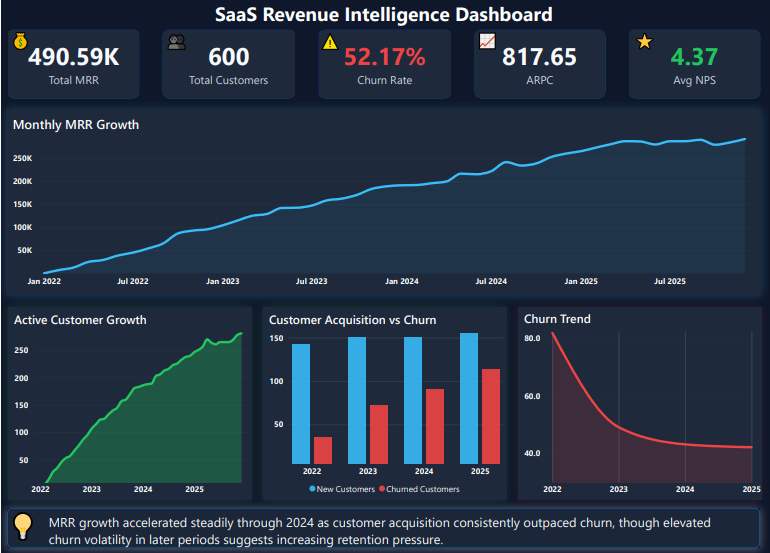

What the dashboard file says about the page in this screenshot:
{"tool":"powerbi","page":{"name":"Executive Overview","canvas":[1280,925],"ordinal":0},"visuals":[{"type":"textbox","box":[7.9,0,1259.2,49],"z":0},{"type":"cardVisual","fields":{"Data":["subscriptions.Total MRR"]},"box":[11.4,48.5,219.5,115.5],"z":1000},{"type":"cardVisual","fields":{"Data":["subscriptions.Total Customers"]},"box":[269.4,48.5,220.9,115.5],"z":2000},{"type":"cardVisual","fields":{"Data":["subscriptions.Avg NPS"]},"box":[1046.2,48.5,219.5,115.5],"z":3000},{"type":"cardVisual","fields":{"Data":["subscriptions.ARPC"]},"box":[788.2,48.5,219.5,115.5],"z":4000},{"type":"cardVisual","fields":{"Data":["subscriptions.Churn Rate"]},"box":[528.8,48.5,220.9,115.5],"z":5000},{"type":"textbox","box":[8.6,48.5,1257.2,65.6],"z":6000},{"type":"lineChart","title":"Monthly MRR Growth","fields":{"Category":["monthly_revenue.Month Date.Variation.Date Hierarchy.Year","monthly_revenue.Month Date.Variation.Date Hierarchy.Quarter","monthly_revenue.Month Date.Variation.Date Hierarchy.Month","monthly_revenue.Month Date.Variation.Date Hierarchy.Day"],"Y":["Sum(monthly_revenue.total_mrr)"]},"box":[9.5,181.7,1256,309.7],"z":7000},{"type":"areaChart","title":"Active Customer Growth","fields":{"Category":["monthly_revenue.Month Date.Variation.Date Hierarchy.Year","monthly_revenue.Month Date.Variation.Date Hierarchy.Quarter","monthly_revenue.Month Date.Variation.Date Hierarchy.Month","monthly_revenue.Month Date.Variation.Date Hierarchy.Day"],"Y":["Sum(monthly_revenue.total_active_customers)"]},"box":[11.1,511.9,404.5,320.7],"z":8000},{"type":"clusteredColumnChart","title":"Customer Acquisition vs Churn","fields":{"Category":["monthly_revenue.Month Date.Variation.Date Hierarchy.Year"],"Y":["Sum(monthly_revenue.new_customers)","Sum(monthly_revenue.churned_customers)"]},"box":[436.1,511.9,404.5,320.7],"z":9000},{"type":"shape","box":[10.3,845.9,1253.4,67.1],"z":9500},{"type":"lineChart","title":"Churn Trend","fields":{"Category":["monthly_revenue.Month Date.Variation.Date Hierarchy.Year","monthly_revenue.Month Date.Variation.Date Hierarchy.Month"],"Y":["Sum(monthly_revenue.monthly_churn_rate_pct)"]},"box":[861.1,511.9,404.5,320.7],"z":10000},{"type":"textbox","box":[79.1,854.5,1188.1,70.5],"z":11000},{"type":"textbox","box":[13.8,845.9,65.3,63.6],"z":13000}]}

Visuals, with their boxes in screenshot pixels (x1, y1, x2, y2), scaled from the page's 1280x925 canvas onto the 770x553 screenshot:
textbox: <region>5, 0, 762, 29</region>
cardVisual - subscriptions.Total MRR: <region>7, 29, 139, 98</region>
cardVisual - subscriptions.Total Customers: <region>162, 29, 295, 98</region>
cardVisual - subscriptions.Avg NPS: <region>629, 29, 761, 98</region>
cardVisual - subscriptions.ARPC: <region>474, 29, 606, 98</region>
cardVisual - subscriptions.Churn Rate: <region>318, 29, 451, 98</region>
textbox: <region>5, 29, 761, 68</region>
"Monthly MRR Growth" lineChart: <region>6, 109, 761, 294</region>
"Active Customer Growth" areaChart: <region>7, 306, 250, 498</region>
"Customer Acquisition vs Churn" clusteredColumnChart: <region>262, 306, 506, 498</region>
shape: <region>6, 506, 760, 546</region>
"Churn Trend" lineChart: <region>518, 306, 761, 498</region>
textbox: <region>48, 511, 762, 552</region>
textbox: <region>8, 506, 48, 544</region>
